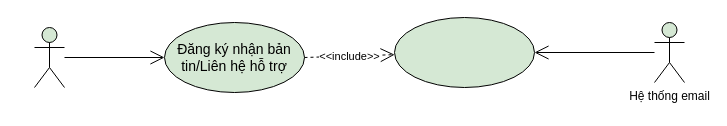
Some shapes in this 727 by 126 pixel diagram are drawn without their labels. Each missing label, with the centre of its shape:
Người dùng: (x=49, y=57)
Xác nhận đăng ký qua email: (x=464, y=52)
